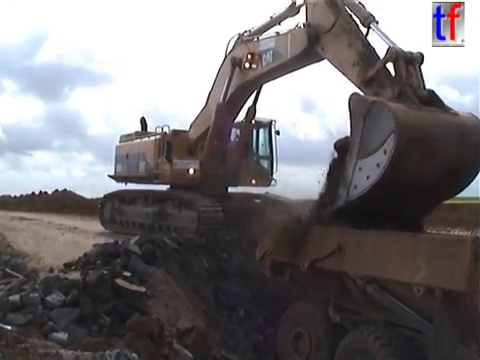excavator: (94, 1, 480, 241)
truck: (251, 198, 480, 360)
